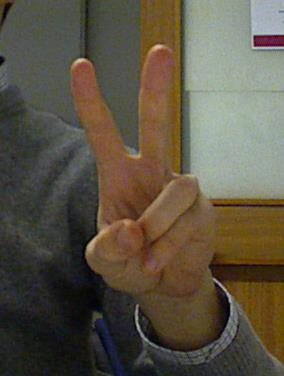front: (68, 43, 214, 301)
